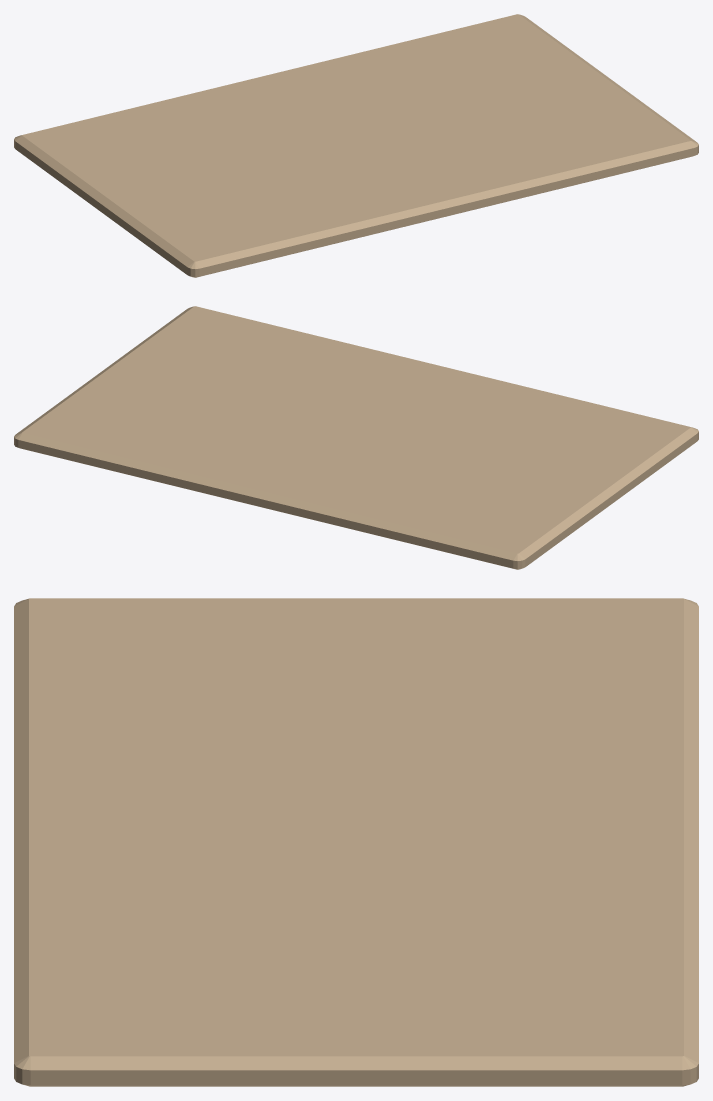
File: fitted-kitchen-and-bathroom-builder-worktop-postform-1-ecc87794__17927.glb
3 renders of one model, top to bottom at view 1: azimuth 30°, elevation 25°; view 2: azimuth 150°, elevation 25°; view 3: azimuth 270°, elevation 25°, orthographic. The views are drawn at different scales.
Visible parts, largest first — view 1: worktop-postform-1000; view 2: worktop-postform-1000; view 3: worktop-postform-1000.
Part boxes in pixels (left/top/right/bottom): worktop-postform-1000: left=14, top=14, right=698, bottom=277; worktop-postform-1000: left=14, top=306, right=698, bottom=569; worktop-postform-1000: left=14, top=598, right=698, bottom=1086.
Bounding box in the file's own units: 1 × 0.03 × 0.6149.
